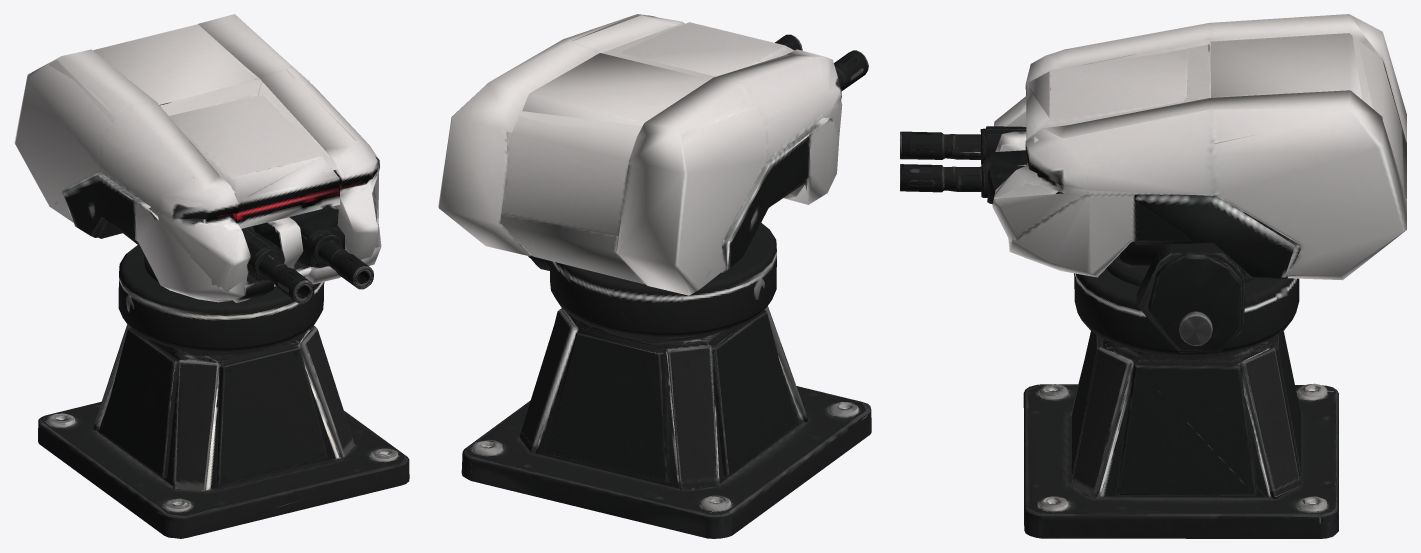
The model's file is meshy-t2.glb.
3 views of the same model, side by side, from view 1: azimuth 30°, elevation 25°; view 2: azimuth 150°, elevation 25°; view 3: azimuth 270°, elevation 25° (orthographic). The views are drawn at different scales.
Bounding box in the file's own units: 0.6183 × 0.8966 × 1.
Materials: 1 (1 with a texture image).
